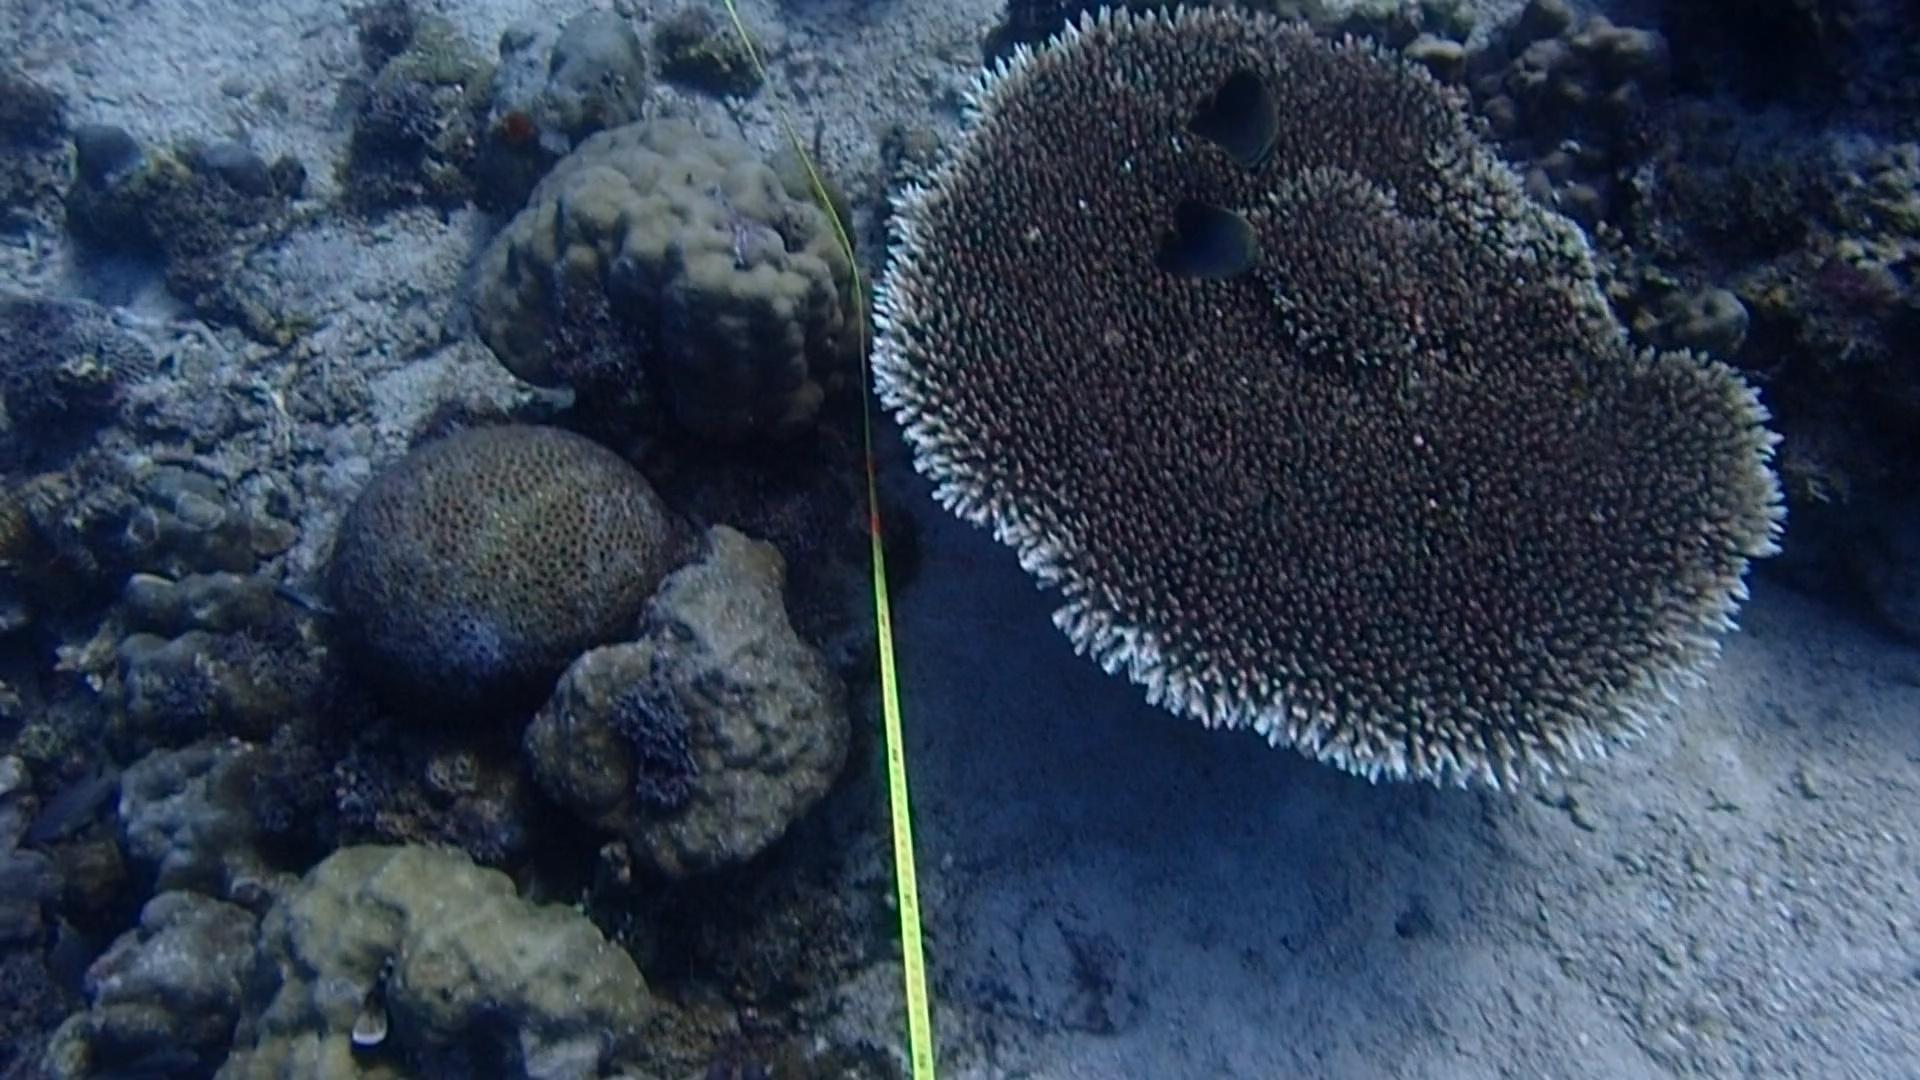Dark Blue Dory: (1154, 59, 1287, 173), (1141, 190, 1263, 293)
Light Fish: (265, 574, 342, 630)
